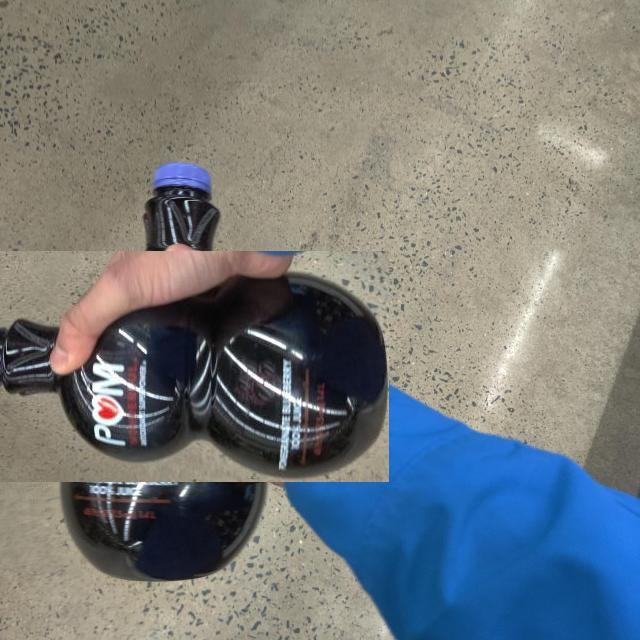Juice: (0, 250, 389, 482)
